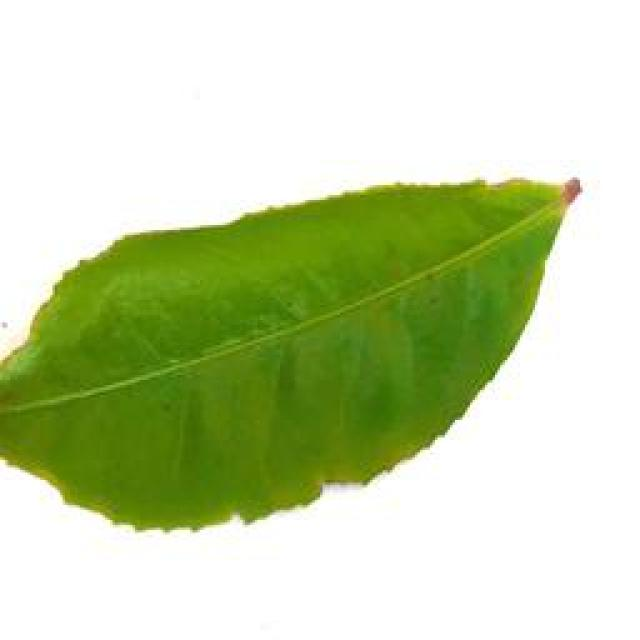Healthy: (0, 167, 605, 545)
